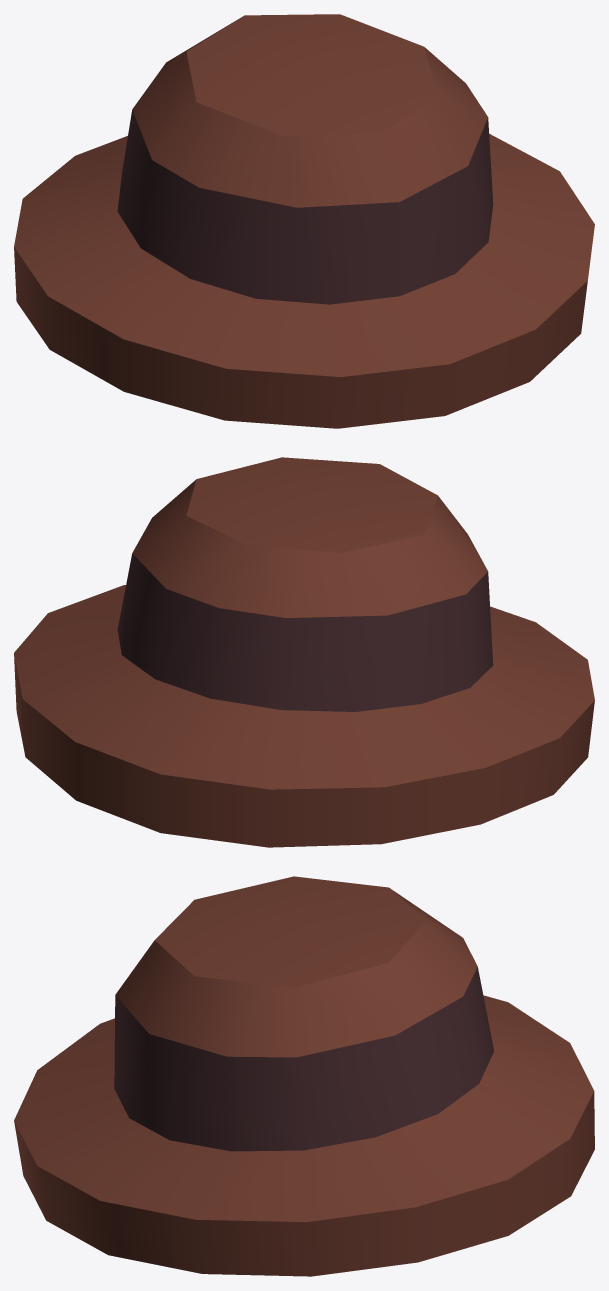
The model's file is Gipsy_Hat_01.fbx.
3 views of the same model, one above another, from view 1: azimuth 30°, elevation 25°; view 2: azimuth 150°, elevation 25°; view 3: azimuth 270°, elevation 25° (orthographic).
Visible parts, largest first — view 1: Gipsy_Hat_01; view 2: Gipsy_Hat_01; view 3: Gipsy_Hat_01.
Boxes of the visible parts, x1=… form: Gipsy_Hat_01: x1=14, y1=14, x2=594, y2=428; Gipsy_Hat_01: x1=14, y1=457, x2=594, y2=847; Gipsy_Hat_01: x1=14, y1=876, x2=594, y2=1276.
Size of the model in its own units: 64.55 by 30.9 by 63.2.
